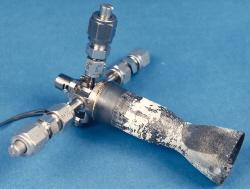thruster: (122, 99, 245, 186)
